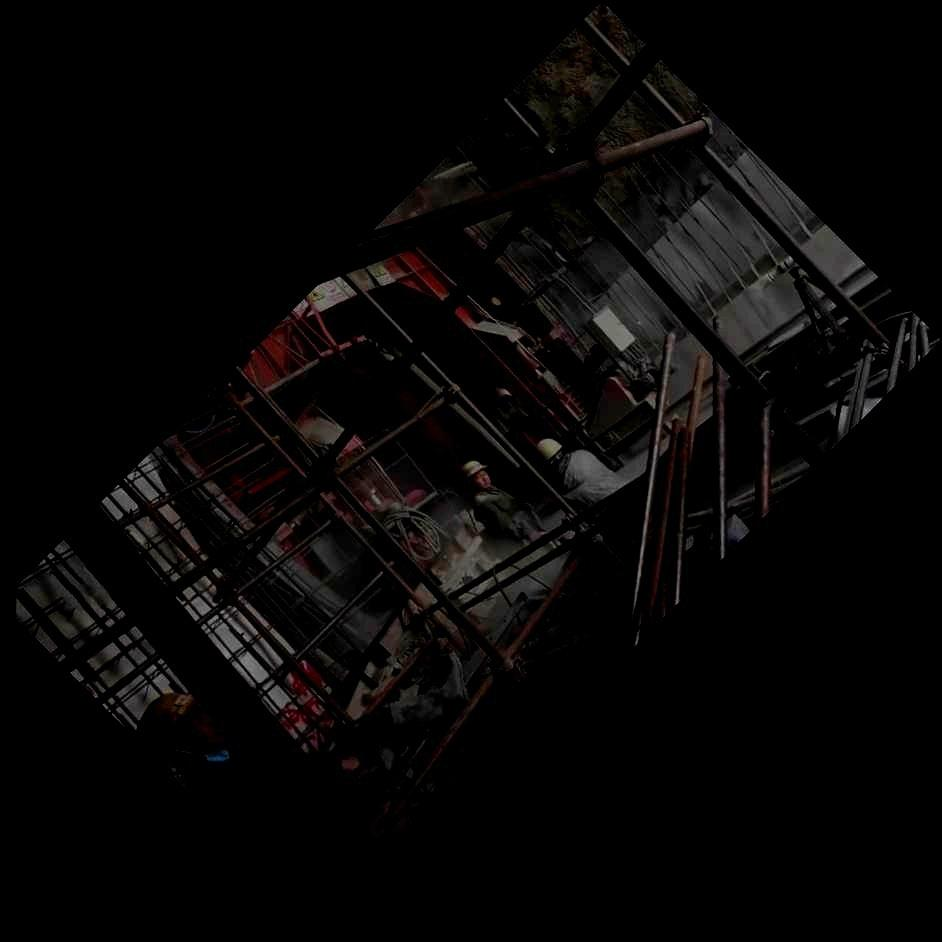helmet: (534, 438, 563, 469), (461, 461, 491, 488)
